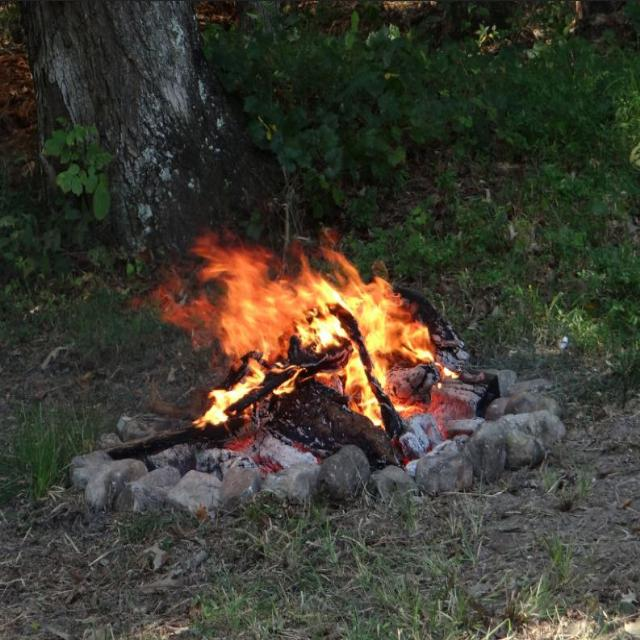fire: (219, 262, 429, 424)
